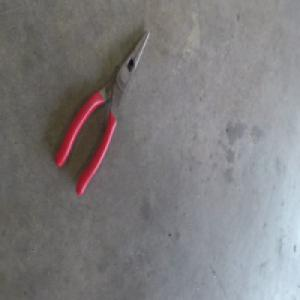Pliers: (64, 28, 158, 195)
